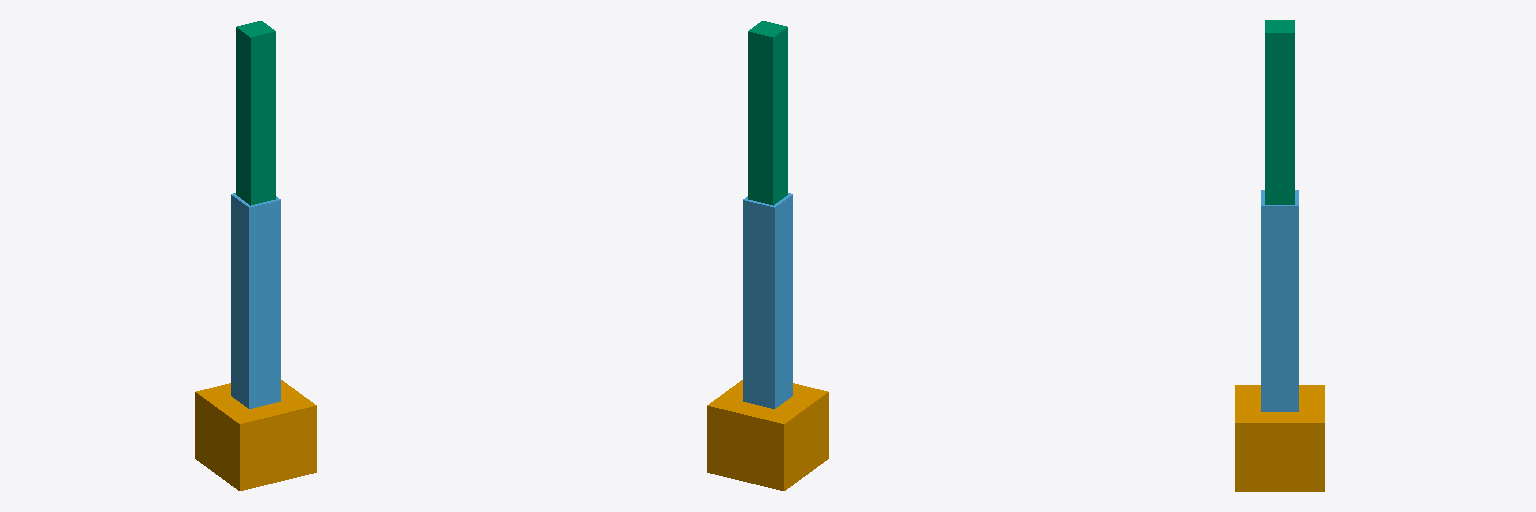
URDF robot description (m2_arm):
<?xml version="1.0"?>
<!-- Minimal fixed-base 2-DOF revolute arm fixture for the ipc_authoritative M2 smoke.
     Box collision geoms (watertight -> AffineBodyConstitution). -->
<robot name="m2_arm">
  <link name="base">
    <inertial>
      <origin xyz="0 0 0.05"/>
      <mass value="2.0"/>
      <inertia ixx="0.01" iyy="0.01" izz="0.01" ixy="0" ixz="0" iyz="0"/>
    </inertial>
    <collision>
      <origin xyz="0 0 0.05"/>
      <geometry><box size="0.12 0.12 0.10"/></geometry>
    </collision>
    <visual>
      <origin xyz="0 0 0.05"/>
      <geometry><box size="0.12 0.12 0.10"/></geometry>
    </visual>
  </link>

  <link name="link1">
    <inertial>
      <origin xyz="0 0 0.15"/>
      <mass value="0.6"/>
      <inertia ixx="0.005" iyy="0.005" izz="0.001" ixy="0" ixz="0" iyz="0"/>
    </inertial>
    <collision>
      <origin xyz="0 0 0.15"/>
      <geometry><box size="0.05 0.05 0.30"/></geometry>
    </collision>
    <visual>
      <origin xyz="0 0 0.15"/>
      <geometry><box size="0.05 0.05 0.30"/></geometry>
    </visual>
  </link>

  <link name="link2">
    <inertial>
      <origin xyz="0 0 0.125"/>
      <mass value="0.4"/>
      <inertia ixx="0.003" iyy="0.003" izz="0.0008" ixy="0" ixz="0" iyz="0"/>
    </inertial>
    <collision>
      <origin xyz="0 0 0.125"/>
      <geometry><box size="0.04 0.04 0.25"/></geometry>
    </collision>
    <visual>
      <origin xyz="0 0 0.125"/>
      <geometry><box size="0.04 0.04 0.25"/></geometry>
    </visual>
  </link>

  <joint name="j1" type="revolute">
    <parent link="base"/>
    <child link="link1"/>
    <origin xyz="0 0 0.10"/>
    <axis xyz="0 1 0"/>
    <limit lower="-3.0" upper="3.0" effort="100" velocity="10"/>
  </joint>

  <joint name="j2" type="revolute">
    <parent link="link1"/>
    <child link="link2"/>
    <origin xyz="0 0 0.30"/>
    <axis xyz="0 1 0"/>
    <limit lower="-3.0" upper="3.0" effort="100" velocity="10"/>
  </joint>
</robot>

--- Facts derived from the render (not from the file) ---
The picture shows the robot from 3 angles, left to right: view 1: azimuth 30°, elevation 25°; view 2: azimuth 150°, elevation 25°; view 3: azimuth 270°, elevation 25°; orthographic projection.
Model m2_arm with 3 links and 2 joints (2 revolute), rooted at base, posed every joint at zero.
Visible links, largest first — view 1: base, link1, link2; view 2: base, link1, link2; view 3: base, link1, link2.
Link boxes in pixels (box(x1,y1,x2,y2)): base: box(195, 380, 316, 490); link1: box(231, 193, 280, 408); link2: box(236, 21, 275, 205); base: box(707, 380, 828, 490); link1: box(743, 193, 792, 408); link2: box(748, 21, 787, 205); base: box(1235, 385, 1324, 491); link1: box(1261, 190, 1298, 411); link2: box(1265, 20, 1294, 204).
Bounding box of the posed robot: 0.12 × 0.12 × 0.65 m (x, y, z).
Geometry: primitives only (box / cylinder / sphere), no mesh files.
